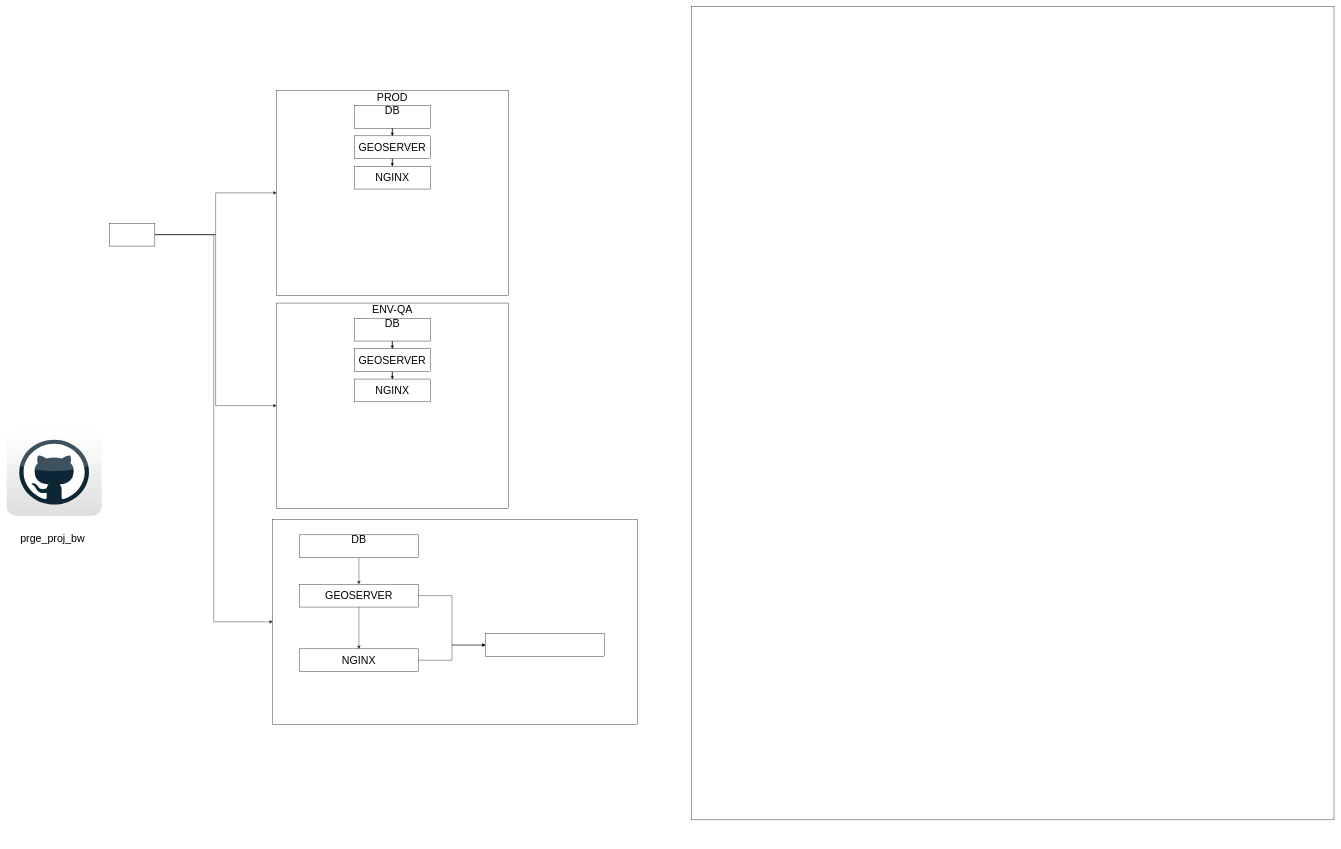
Image size: 1341x849. Some labels were removed from this diagram. Here are the shapes that lost their labels. From the top down, the box of each, then its label:
(109, 223, 155, 246): github runner
(691, 6, 1334, 820): SERWER
(272, 519, 637, 724): ENV-TEST
(485, 633, 605, 656): node/react app
